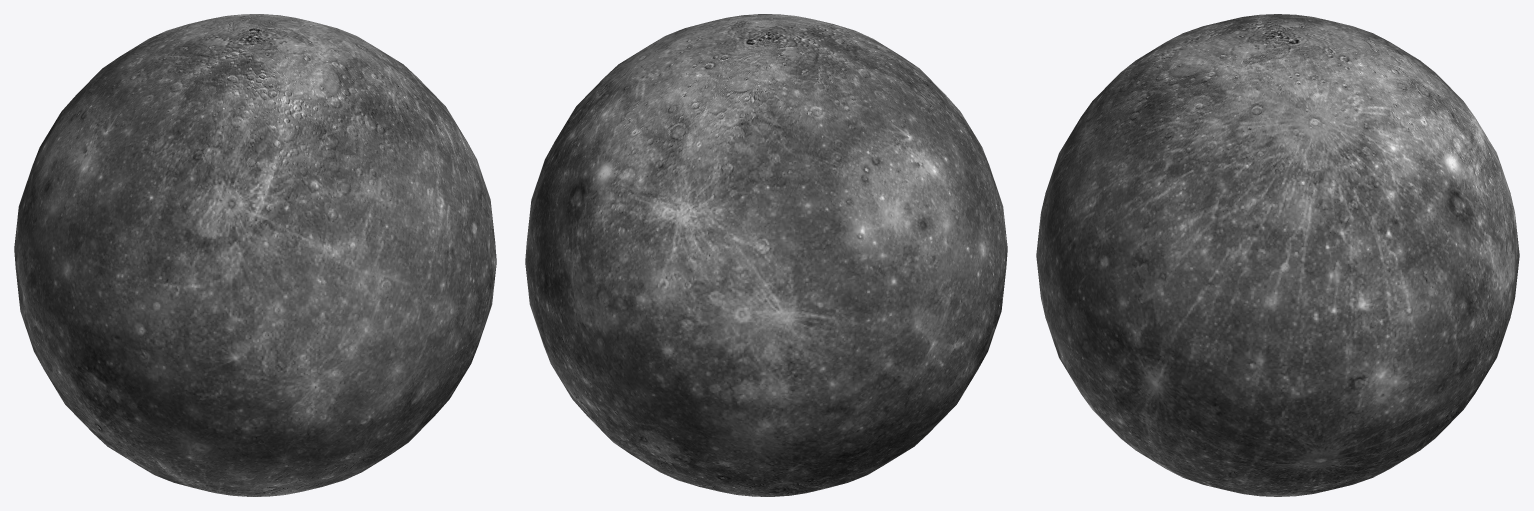
File: mercurius.gltf
3 renders of one model, left to right at view 1: azimuth 30°, elevation 25°; view 2: azimuth 150°, elevation 25°; view 3: azimuth 270°, elevation 25°, orthographic.
Parts seen in each view (by area): view 1: Object_2; view 2: Object_2; view 3: Object_2.
Part boxes in pixels (left/top/right/bottom): Object_2: left=14, top=14, right=496, bottom=496; Object_2: left=525, top=14, right=1007, bottom=496; Object_2: left=1036, top=14, right=1519, bottom=496.
Size of the model in its own units: 1.79 by 1.79 by 1.79.
1 material, 1 textured.
